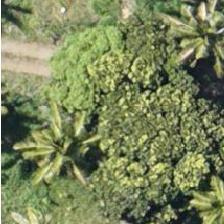coconut_tree: (17, 96, 107, 186), (157, 0, 223, 81), (170, 164, 223, 223)
